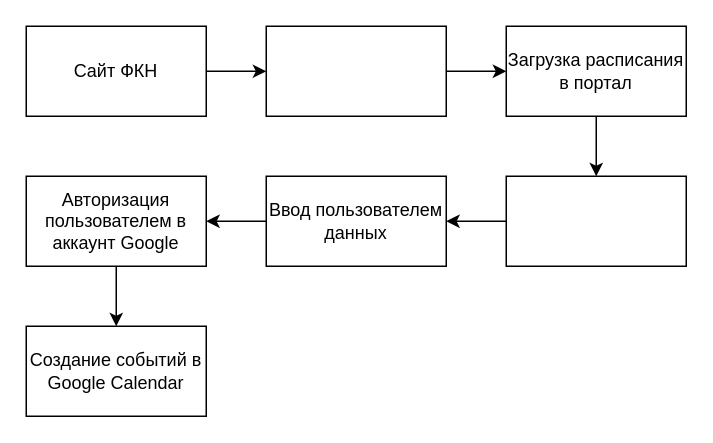
The diagram is 713 pixels wide and 443 high, and some of its shapes have lost their labels. The shapes that lost their labels are listed below. From the top down, each one's box as (x1, y1, x2, y2) in pixels, then its label:
(265, 25, 446, 116): Скачивание администратором расписания
(505, 175, 686, 266): Парсинг расписания
